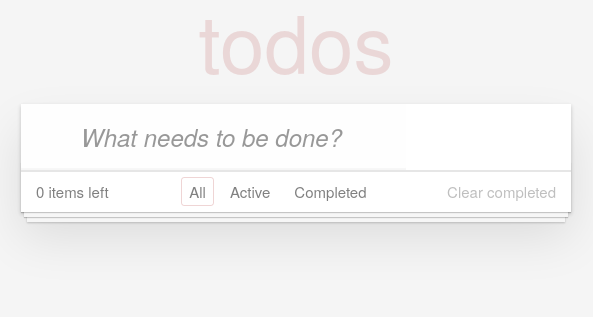
Test case: удаляет задачу
The width and height of the screenshot is (593, 317).
Type "Удаляемая задача" into the field with placeholder "What needs to be done?" at {"x": 214, "y": 137}, box 21,104 -> 406,170
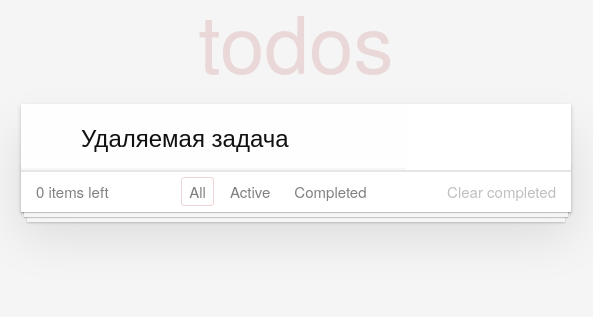
Submit the form with placeholder "What needs to be done?", box 21,104 -> 406,170
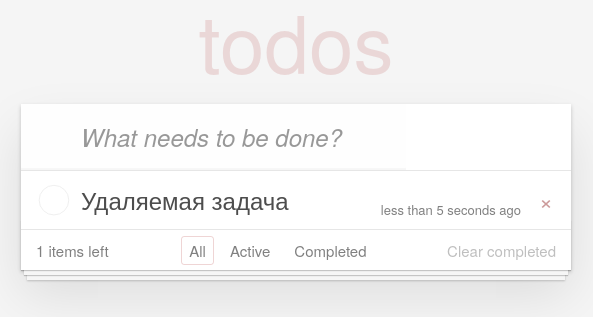
Click the button named "delete task: удаляемая задача" at {"x": 546, "y": 200}, box 531,185 -> 561,215
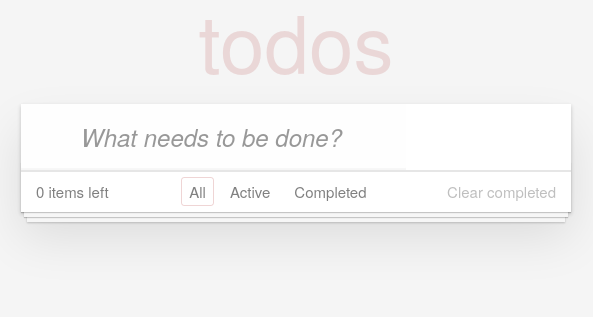
Check: the text "Удаляемая задача" is gone
